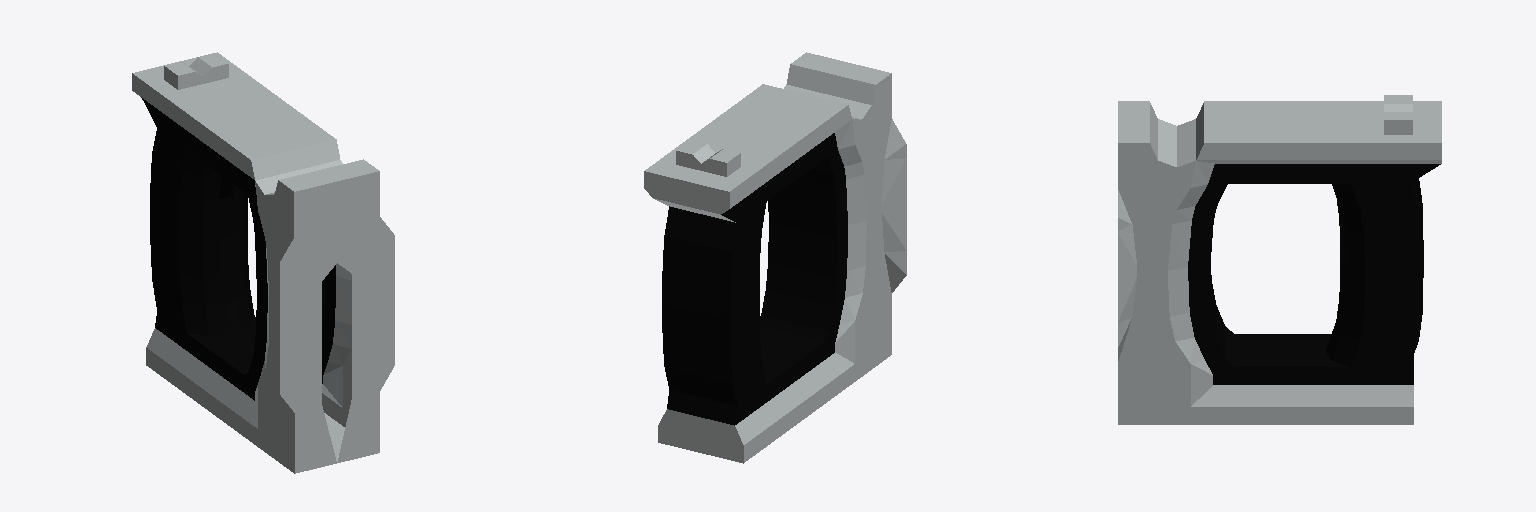
File: gun5.obj
3 views of the same model, side by side, from view 1: azimuth 30°, elevation 25°; view 2: azimuth 150°, elevation 25°; view 3: azimuth 270°, elevation 25° (orthographic).
Visible parts, largest first — view 1: Cube.005; view 2: Cube.005; view 3: Cube.005.
Boxes of the visible parts, <box> form: Cube.005: <box>132,52,394,473</box>; Cube.005: <box>644,52,906,463</box>; Cube.005: <box>1118,95,1441,424</box>.
Size of the model in its own units: 1.41 by 3.47 by 3.45.